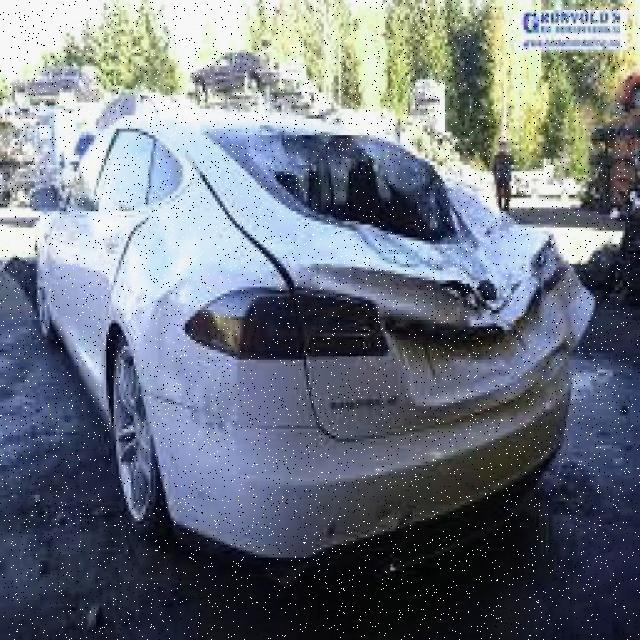car damage: (236, 134, 596, 418)
